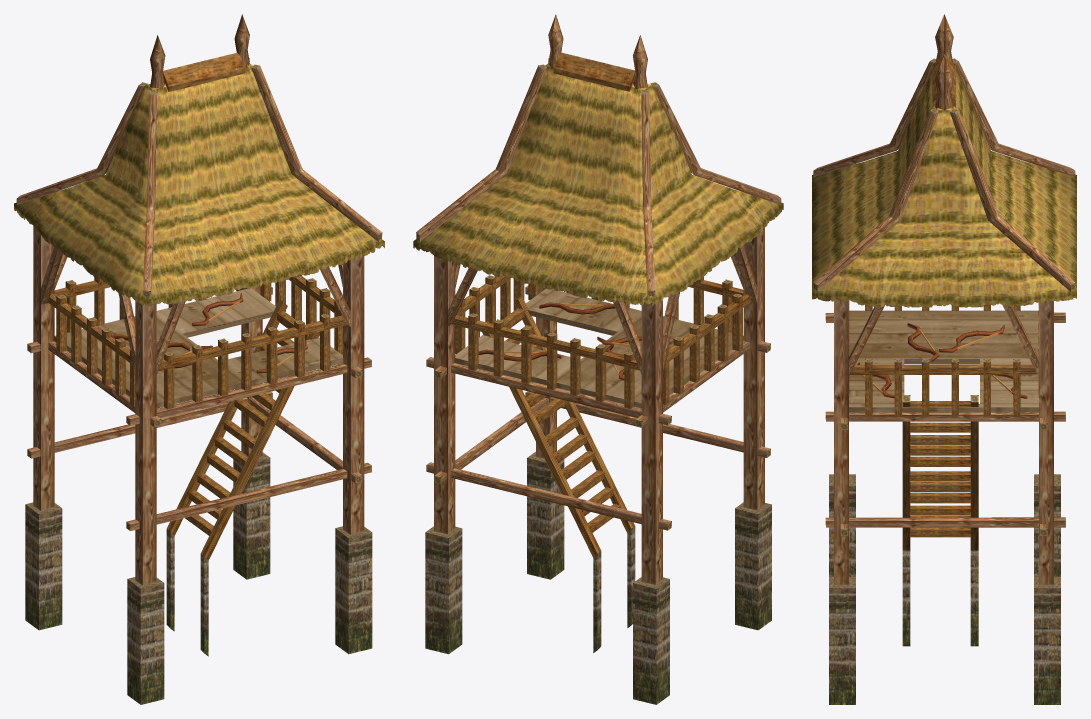
Rendered from wood_tower.dae.
The picture shows the model from 3 angles, left to right: view 1: azimuth 30°, elevation 25°; view 2: azimuth 150°, elevation 25°; view 3: azimuth 270°, elevation 25°; orthographic projection.
Visible parts, largest first — view 1: wood_tower; view 2: wood_tower; view 3: wood_tower.
Boxes of the visible parts, x1,y1,x2,y2 form: wood_tower: [14, 14, 384, 704]; wood_tower: [413, 14, 783, 704]; wood_tower: [812, 14, 1076, 704].
Bounding box in the file's own units: 7.93 × 7.48 × 19.25.
